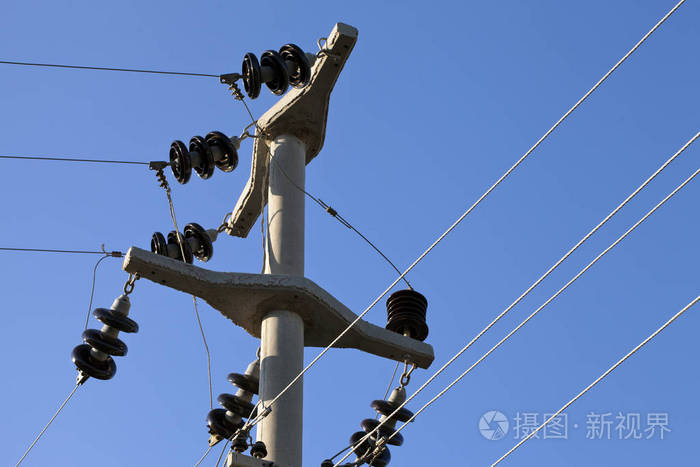insulator: (70, 309, 139, 384), (346, 400, 416, 465), (240, 41, 310, 99), (169, 130, 241, 186), (210, 374, 263, 439), (153, 224, 212, 264), (385, 287, 431, 330)
